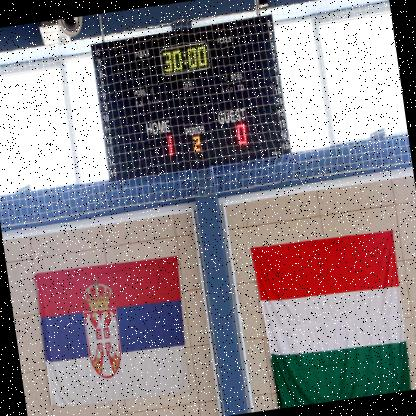hu: (251, 225, 415, 410)
rs: (33, 255, 198, 412)
